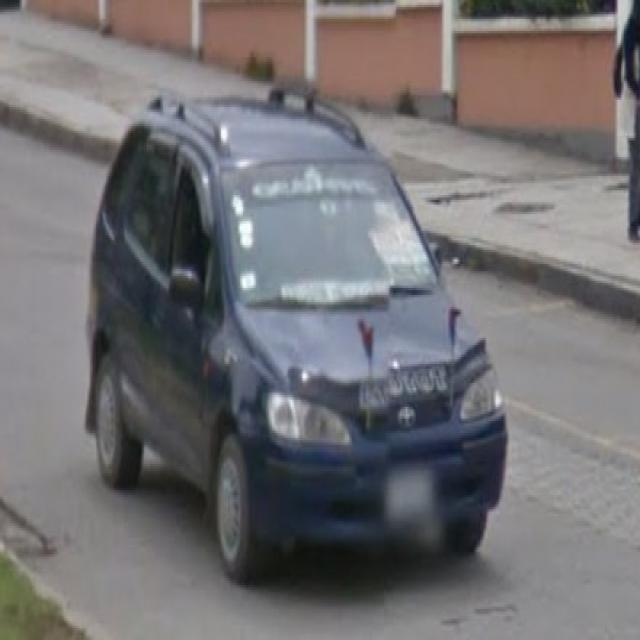car: (84, 78, 510, 584)
